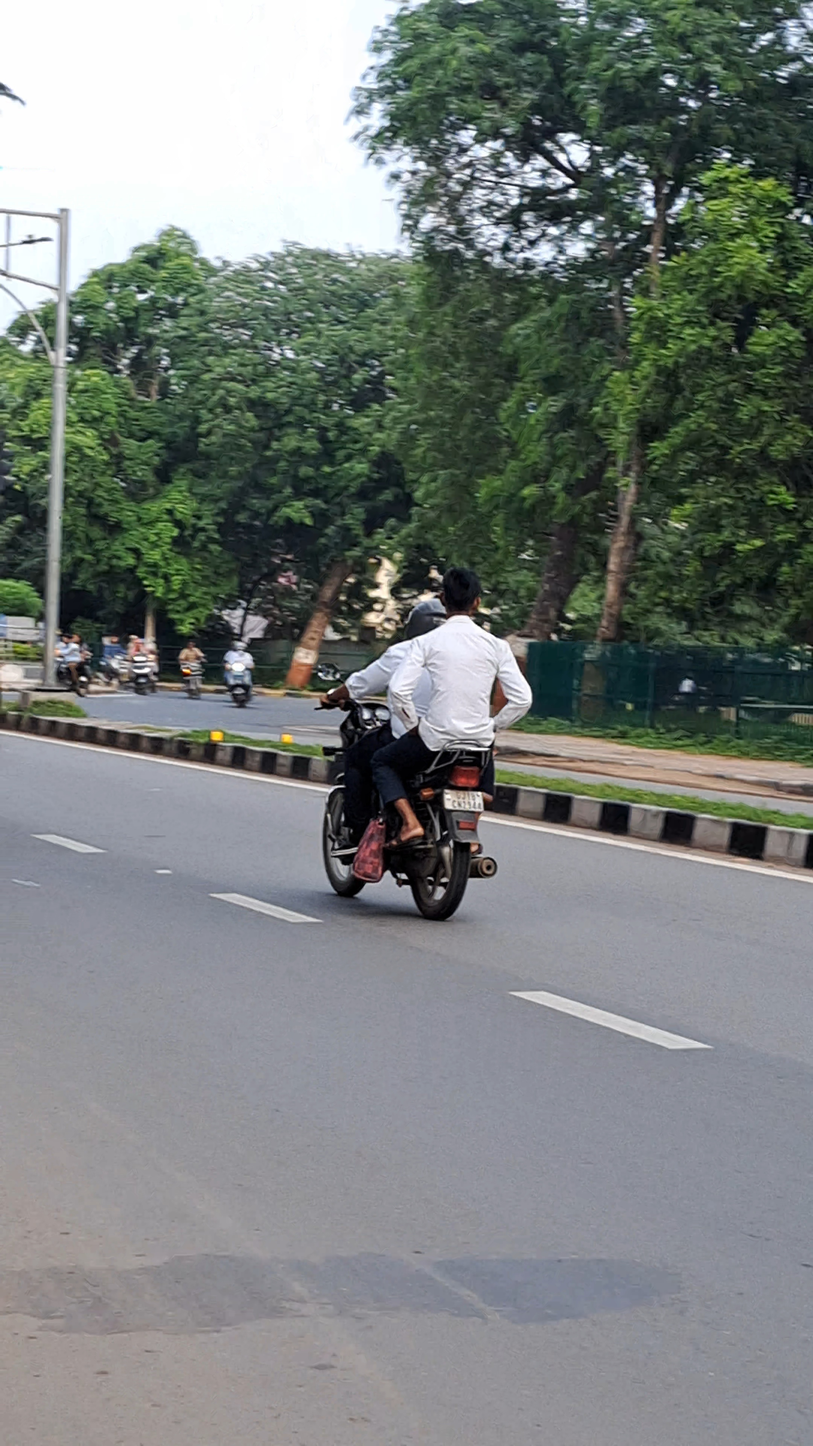BikeWithRider: (302, 560, 535, 927), (55, 630, 101, 698), (222, 639, 259, 708), (125, 634, 163, 696), (177, 639, 208, 702), (92, 636, 130, 684)
Helmet: (397, 593, 453, 646)
NoHelmet: (435, 561, 486, 627)
